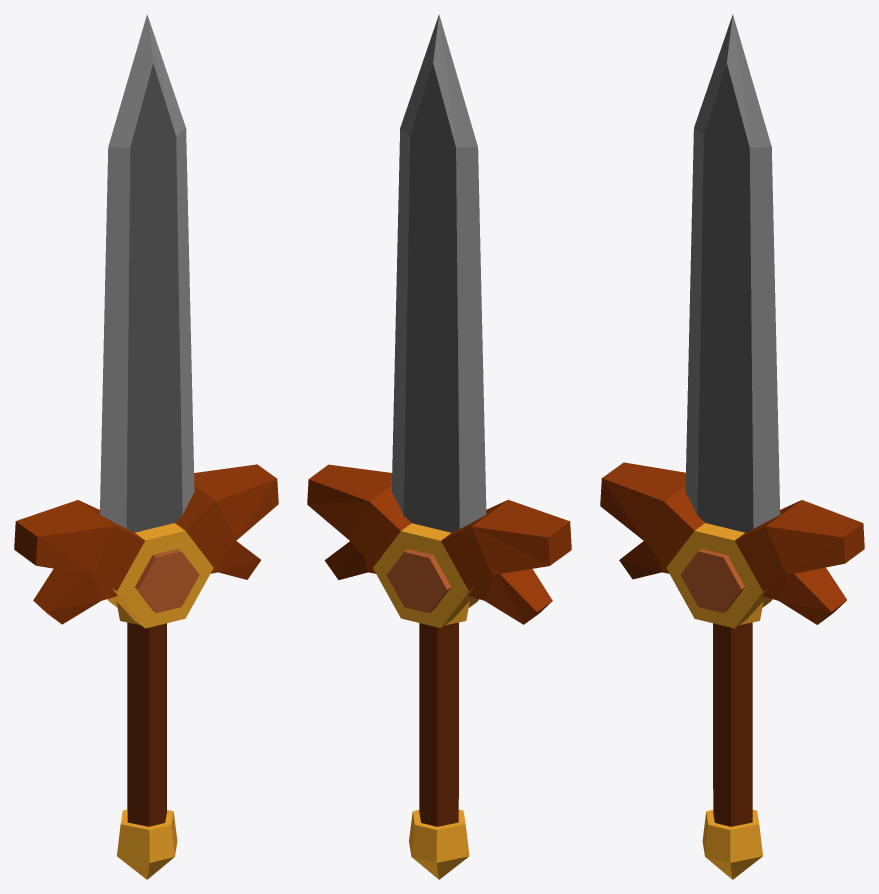
Rendered from Dagger 01.FBX.
The picture shows the model from 3 angles, left to right: view 1: azimuth 30°, elevation 25°; view 2: azimuth 150°, elevation 25°; view 3: azimuth 330°, elevation 25°; orthographic projection.
Visible parts, largest first — view 1: Dagger 01; view 2: Dagger 01; view 3: Dagger 01.
Boxes of the visible parts, x1,y1,x2,y2 form: Dagger 01: [14, 14, 278, 879]; Dagger 01: [307, 14, 571, 879]; Dagger 01: [600, 14, 864, 879].
Bounding box in the file's own units: 26.1 × 88.53 × 8.17.
